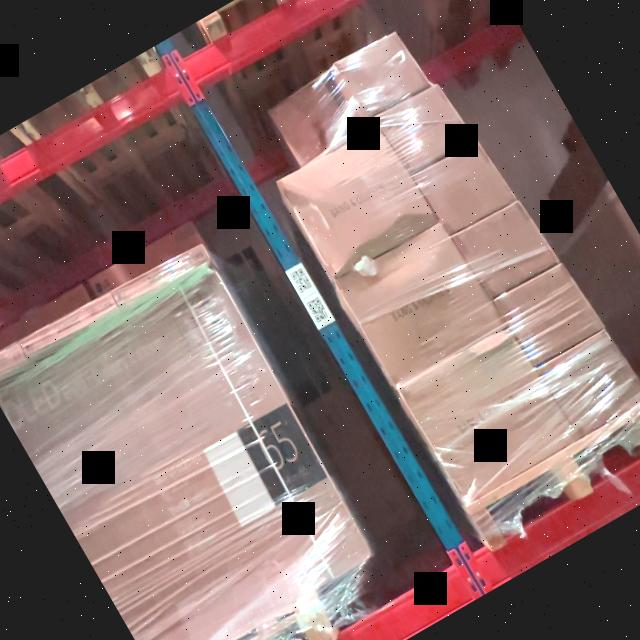box: (400, 324, 576, 503), (335, 218, 502, 388), (278, 123, 436, 280), (540, 328, 640, 435), (498, 263, 599, 363), (457, 200, 554, 297), (88, 220, 202, 300), (416, 140, 511, 234), (337, 28, 427, 118), (380, 84, 470, 172), (268, 79, 356, 166), (0, 283, 91, 361)
